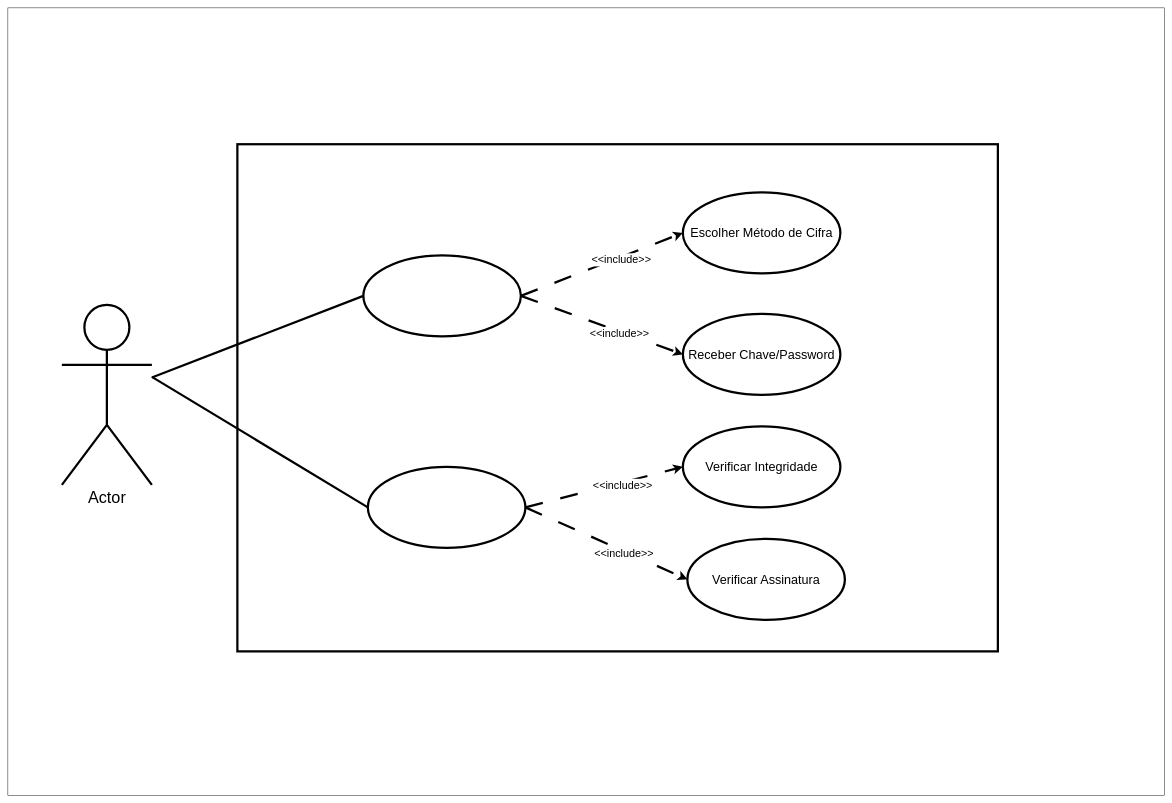
Some shapes in this 1172 by 803 pixel diagram are drawn without their labels. Here are the shapes that lost their labels. From the top down, the centre of each, then its label:
the point at 442,295: Criar Novo Cofre
the point at 446,507: Abrir Cofre
